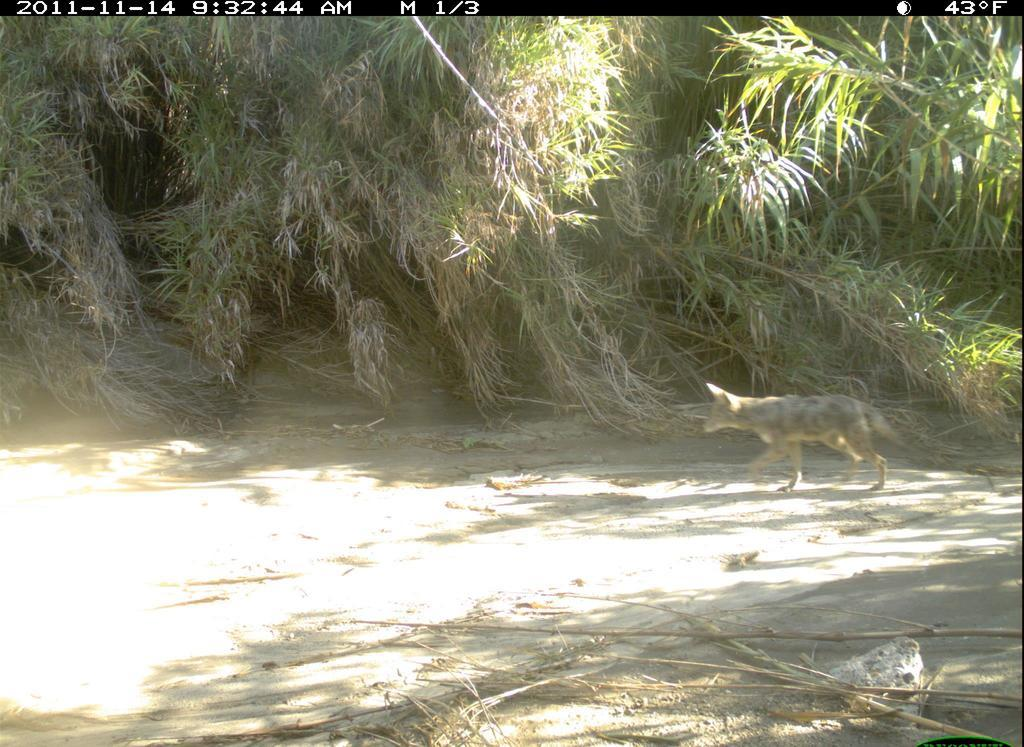coyote: (684, 377, 905, 493)
